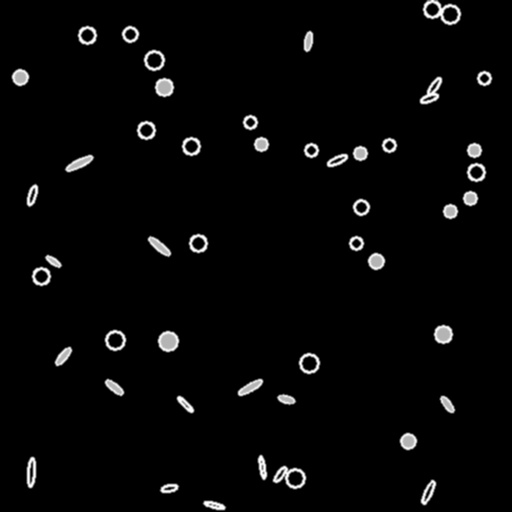pseudomonas: (64, 153, 94, 173), (146, 235, 172, 257), (237, 377, 263, 397), (420, 479, 436, 505), (54, 346, 72, 366), (271, 464, 289, 484), (104, 378, 124, 396), (176, 395, 194, 413), (426, 76, 442, 96), (439, 394, 455, 414), (326, 153, 348, 167), (26, 457, 36, 487), (419, 92, 439, 104), (26, 185, 38, 205), (45, 254, 61, 268), (277, 393, 295, 405), (204, 500, 224, 510), (258, 455, 266, 479), (160, 483, 178, 493), (304, 31, 312, 51)
synechocystis: (300, 354, 318, 372), (106, 331, 124, 349), (286, 469, 304, 487), (441, 5, 459, 23), (159, 332, 177, 350), (145, 51, 163, 69), (190, 235, 206, 251), (156, 79, 172, 95), (138, 122, 154, 138), (424, 1, 440, 17), (79, 27, 95, 43), (468, 164, 484, 180), (435, 326, 451, 342), (33, 268, 49, 284), (183, 138, 199, 154), (369, 254, 383, 268), (354, 200, 368, 214), (13, 70, 27, 84), (123, 27, 137, 41), (401, 434, 415, 448), (464, 192, 476, 204), (305, 144, 317, 156), (354, 147, 366, 159), (468, 144, 480, 156), (244, 116, 256, 128), (383, 139, 395, 151), (478, 72, 490, 84), (350, 237, 362, 249), (444, 205, 456, 217), (255, 138, 267, 150)
